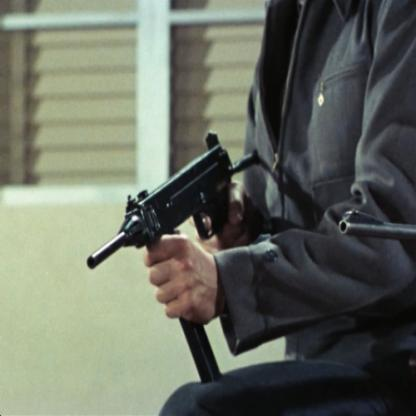Gun: (84, 131, 248, 385)
